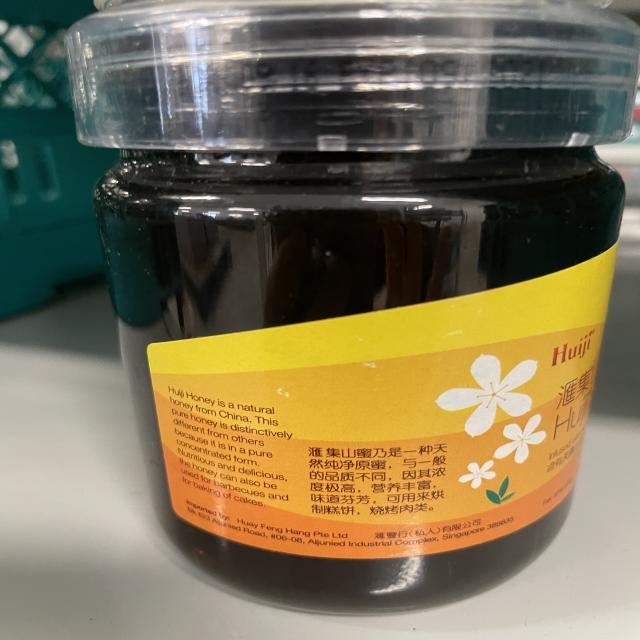object_name: (79, 3, 617, 618)
